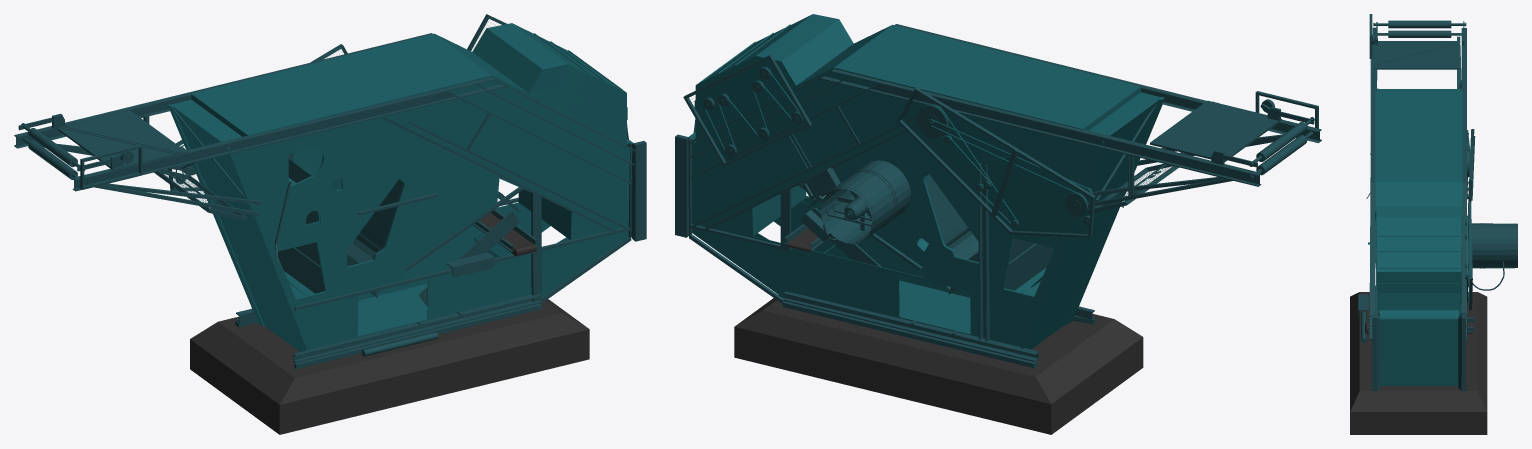
The model's file is SM_RicePackingMachine.fbx.
3 renders of one model, left to right at view 1: azimuth 30°, elevation 25°; view 2: azimuth 150°, elevation 25°; view 3: azimuth 270°, elevation 25°, orthographic. The views are drawn at different scales.
Visible parts, largest first — view 1: Plane001, Remorque, Plane002, Box007, Box022, Box036, Object001, Object002, Box014, Box037, Box105, Box027 (+7 smaller); view 2: Plane001, Remorque, Plane002, Cylinder00, Box022, Box007, Box009, Plane003, Object002, Box008, Box010, Object001 (+9 smaller); view 3: Plane001, Remorque, Plane002, Box022, Cylinder00, Box014, Cylinder04.Cylinder05.001, Cylinder04.Cylinder05.002, Box005, Plane003, Box007, Box107 (+2 smaller).
Part boxes in pixels (left/top/right/bottom): Plane001: left=168, top=23, right=633, bottom=351; Remorque: left=190, top=299, right=589, bottom=434; Plane002: left=14, top=33, right=635, bottom=191; Box007: left=294, top=116, right=631, bottom=310; Box022: left=57, top=110, right=186, bottom=170; Box036: left=293, top=294, right=541, bottom=362; Object001: left=278, top=159, right=324, bottom=293; Object002: left=347, top=181, right=402, bottom=293; Box014: left=631, top=141, right=646, bottom=241; Box037: left=294, top=303, right=541, bottom=368; Box105: left=418, top=211, right=519, bottom=305; Box027: left=86, top=182, right=260, bottom=215; Plane001: left=689, top=14, right=1164, bottom=354; Remorque: left=734, top=294, right=1143, bottom=434; Plane002: left=687, top=24, right=1321, bottom=186; Cylinder00: left=820, top=160, right=910, bottom=243; Box022: left=1150, top=100, right=1281, bottom=161; Box007: left=688, top=105, right=947, bottom=303; Box009: left=783, top=291, right=1038, bottom=362; Plane003: left=897, top=87, right=1095, bottom=237; Object002: left=925, top=176, right=978, bottom=289; Box008: left=782, top=301, right=1037, bottom=368; Box010: left=978, top=163, right=989, bottom=341; Object001: left=1004, top=238, right=1054, bottom=290; Plane001: left=1368, top=88, right=1462, bottom=385; Remorque: left=1350, top=292, right=1487, bottom=434; Plane002: left=1369, top=27, right=1466, bottom=339; Box022: left=1373, top=41, right=1459, bottom=69; Cylinder00: left=1461, top=223, right=1517, bottom=268; Box014: left=1372, top=313, right=1465, bottom=391; Cylinder04.Cylinder05.001: left=1373, top=20, right=1466, bottom=28; Cylinder04.Cylinder05.002: left=1377, top=30, right=1461, bottom=37; Box005: left=1467, top=202, right=1472, bottom=309; Plane003: left=1468, top=129, right=1475, bottom=203; Box007: left=1375, top=205, right=1465, bottom=316; Box107: left=1358, top=294, right=1368, bottom=316.
Size of the model in its own units: 280 by 93.35 by 145.
